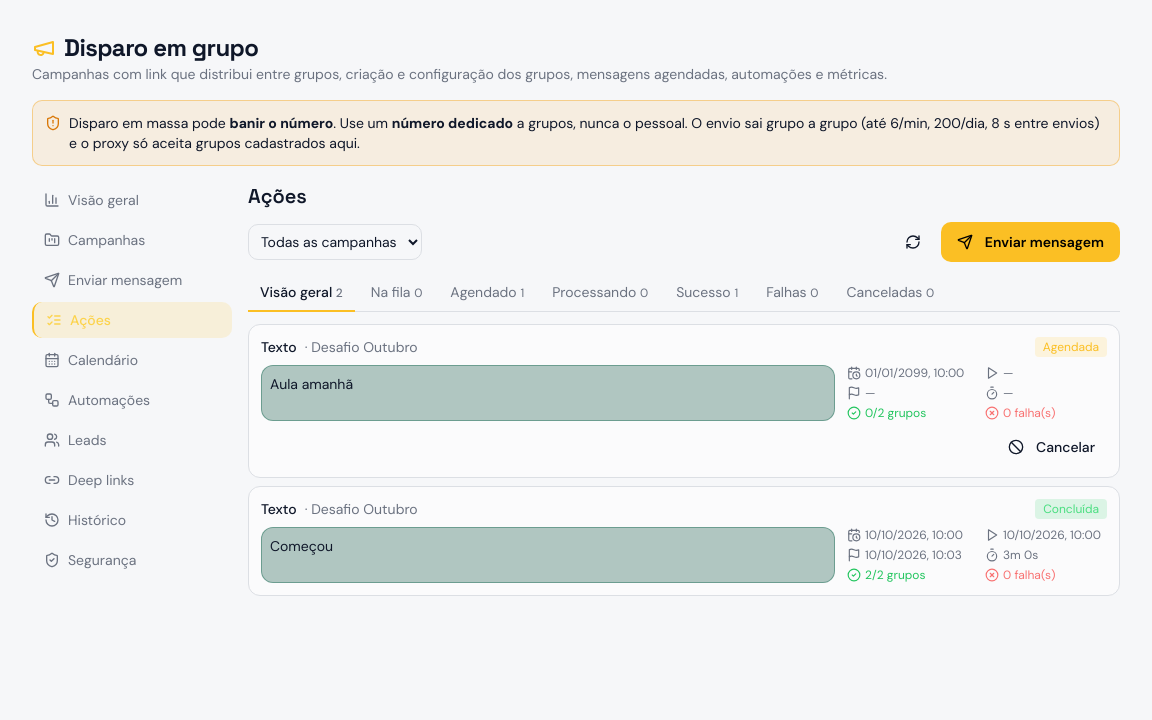
Test case: painel Disparo em grupo (estilo SendFlow) › ações: filtro por status e cancelar usa a RPC que já existe
Later steps or results of the test are not shown.
What coordinates should you click on to do the following:
click the tab "Agendado 1"
I would click on:
 (487, 293)
Its box is [438,274,536,312].
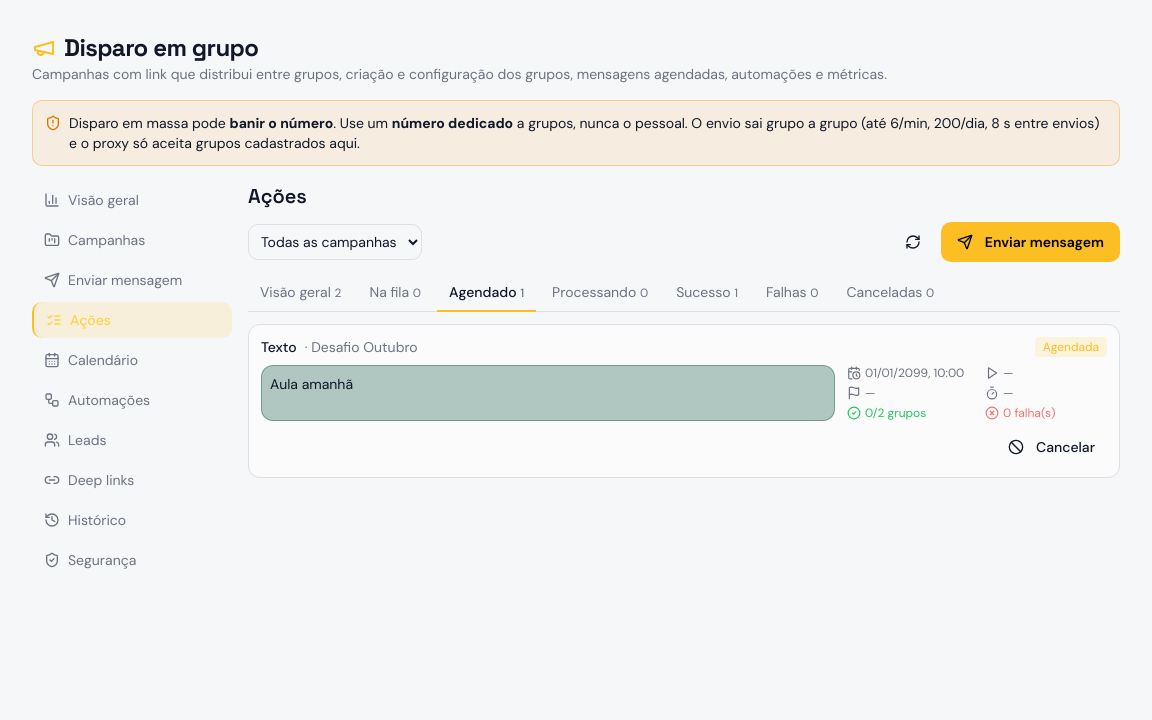
Expected: the text "Aula amanhã" is shown, [261,365,835,421]
Expected: the text "Começou" is gone
